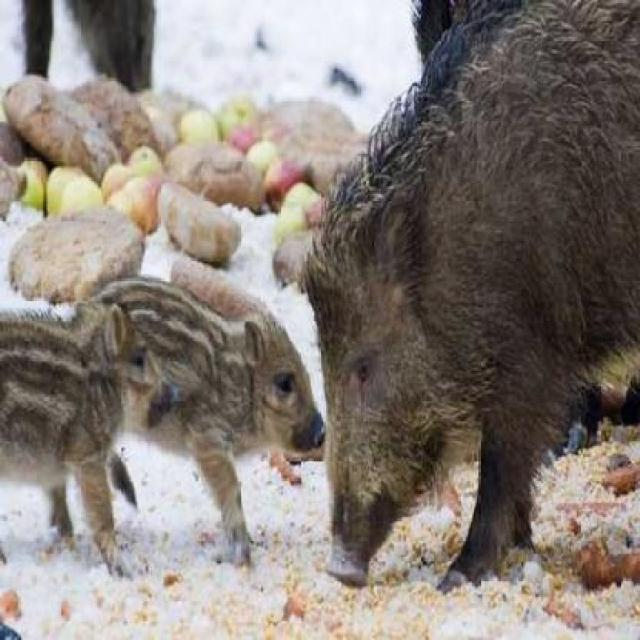Boar: (312, 0, 638, 555), (33, 203, 310, 525)
